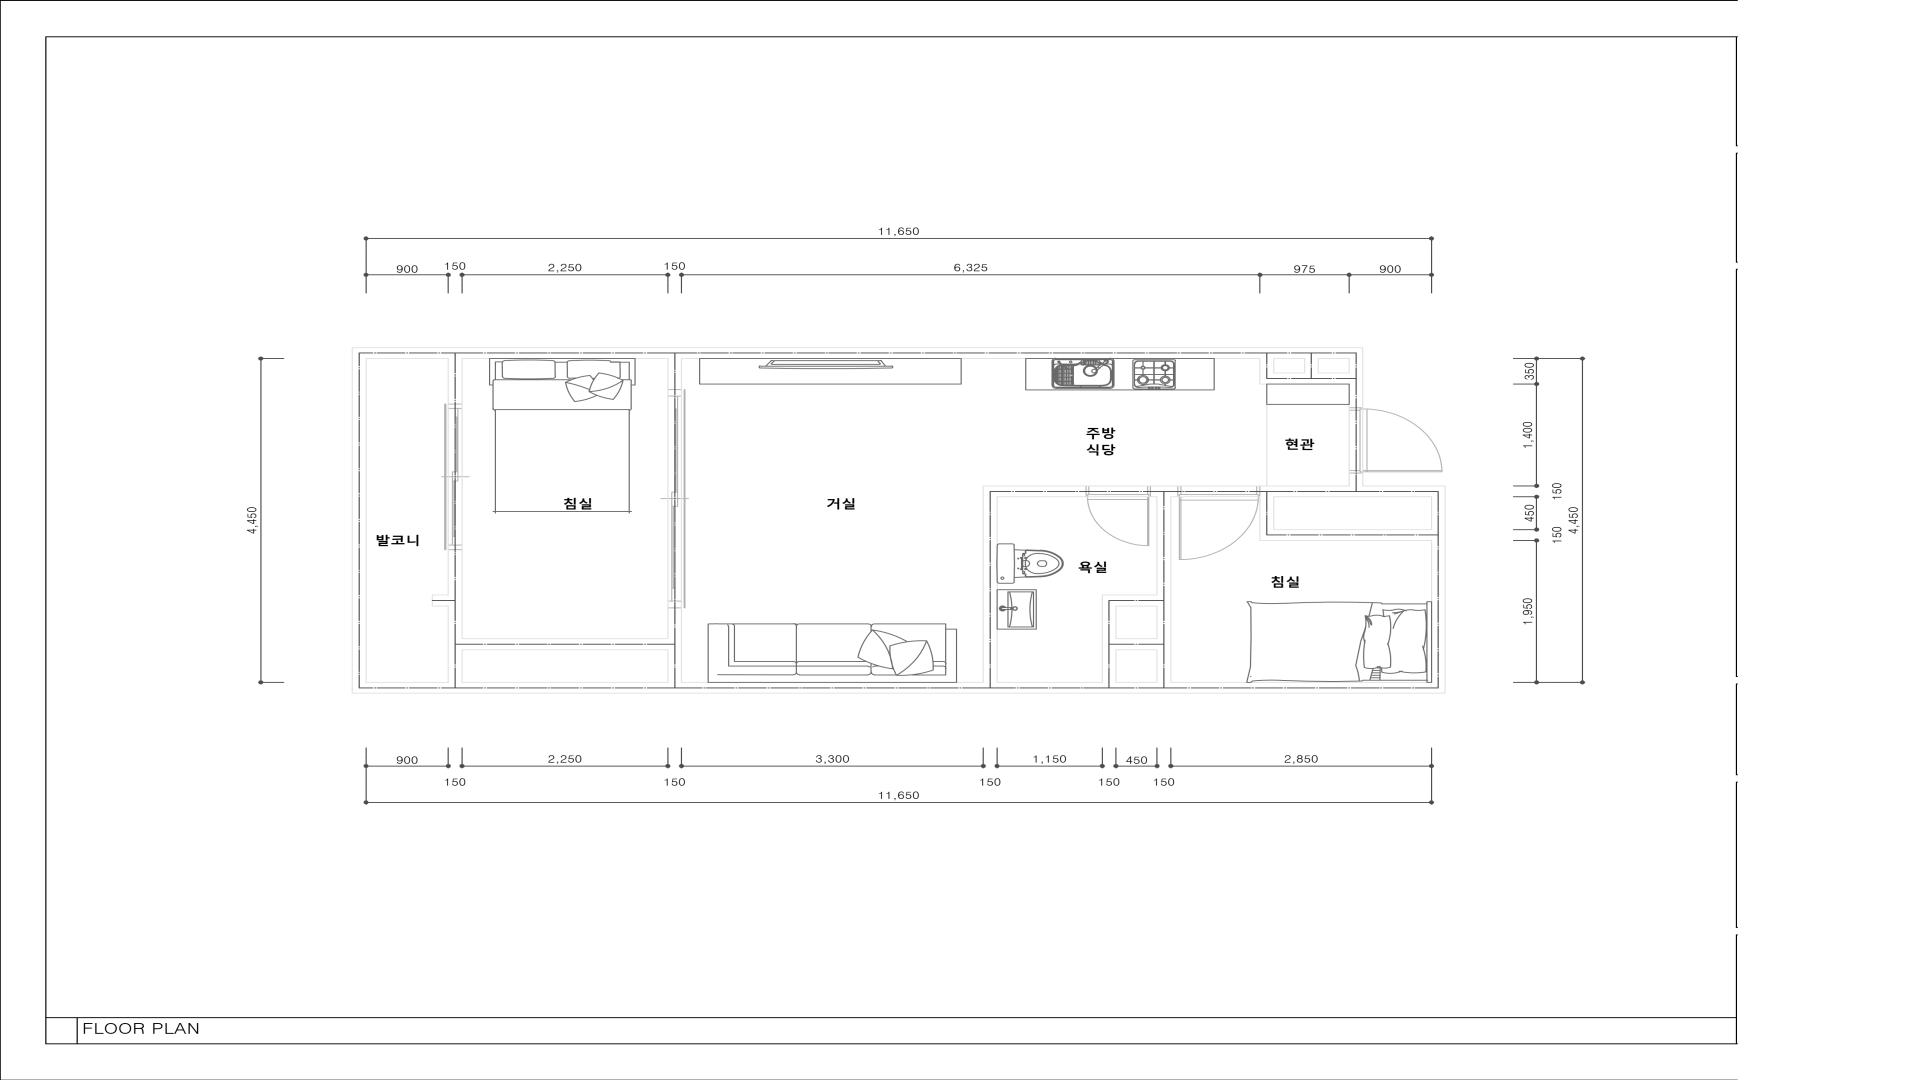door: (1178, 485, 1261, 560), (1349, 409, 1443, 473), (667, 389, 686, 608), (1087, 485, 1151, 546)
wall: (367, 682, 1432, 694), (367, 347, 1364, 359), (352, 347, 367, 694), (982, 497, 998, 682), (1431, 497, 1445, 694), (1156, 497, 1171, 682), (463, 638, 667, 650), (447, 550, 463, 682), (1274, 529, 1431, 541), (1102, 595, 1117, 682), (982, 485, 1087, 497), (1349, 485, 1445, 497), (667, 608, 682, 682), (1259, 485, 1349, 497), (1349, 359, 1364, 409), (447, 359, 463, 404), (1259, 497, 1274, 541), (1117, 595, 1156, 607), (1117, 638, 1156, 650), (667, 359, 682, 389), (1150, 485, 1179, 497), (431, 595, 447, 607), (1349, 473, 1364, 485)
window: (444, 404, 463, 550)
